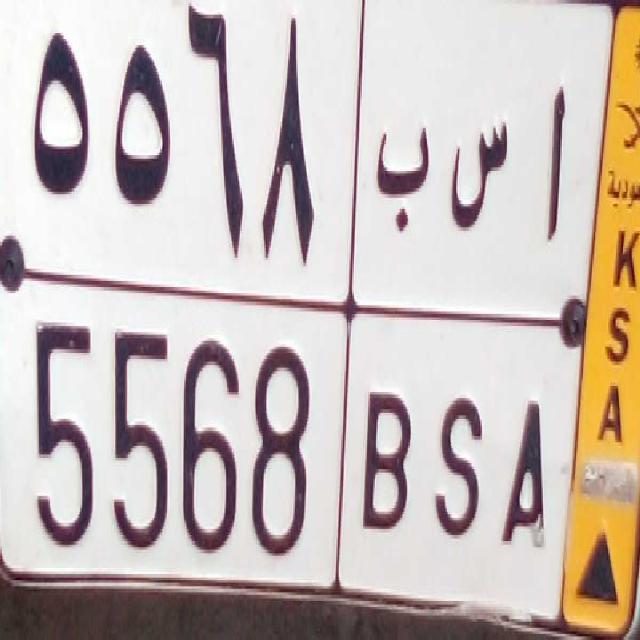license_plate: (14, 269, 571, 639)
